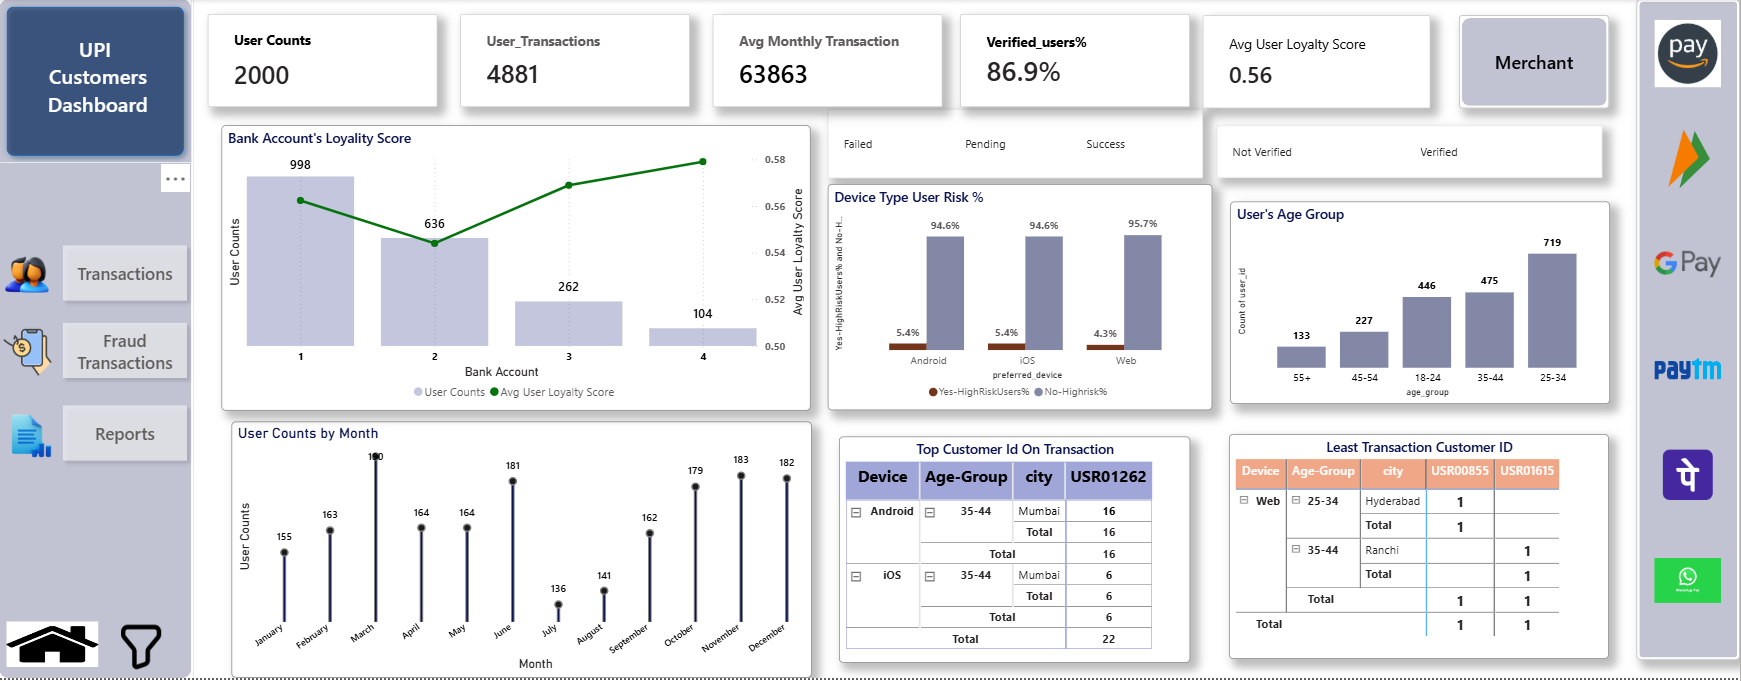

Layout of this report page (visuals, bound fields, positions):
{"tool":"powerbi","page":{"name":"Customer","canvas":[2050,800],"ordinal":2},"visuals":[{"type":"group","id":"g1","title":"Group 11","box":[0,0,230,800],"z":0},{"type":"shape","box":[0,0,226.7,193.5],"z":0,"group":"g2"},{"type":"shape","box":[0,0,226.7,799.8],"z":0,"group":"g1"},{"type":"shape","box":[1927.8,0,121.9,778.4],"z":0,"group":"g3"},{"type":"cardVisual","fields":{"Data":["fraud_labels.Merch_Transactions"]},"box":[543.8,16.8,270,109.9],"z":0,"group":"g7"},{"type":"actionButton","box":[66,280.8,164.1,82.9],"z":0,"group":"g4"},{"type":"actionButton","box":[66,372.1,164.1,82.9],"z":0,"group":"g5"},{"type":"actionButton","box":[66,470.2,164.1,82.9],"z":0,"group":"g6"},{"type":"group","id":"g2","title":"Group 1","box":[0,0,226.7,193.5],"z":1000,"group":"g1"},{"type":"group","id":"g3","title":"Group 3","box":[1927.8,0,121.9,778.4],"z":1000},{"type":"advancedSlicerVisual","fields":{"Values":["slicer.preferred_ app"]},"box":[1943,1.6,91.4,748.8],"z":1000,"group":"g3"},{"type":"cardVisual","fields":{"Data":["Count(merchants.merchant_id)"]},"box":[245.8,16.8,270,109.9],"z":1000,"group":"g7"},{"type":"textbox","box":[30.5,39,171.2,114.1],"z":1000,"group":"g2"},{"type":"image","box":[1.7,294.3,64.3,59.2],"z":1000,"group":"g4"},{"type":"image","box":[1.7,385.6,64.3,59.2],"z":1000,"group":"g5"},{"type":"image","box":[1.7,483.7,64.3,59.2],"z":1000,"group":"g6"},{"type":"cardVisual","fields":{"Data":["fraud_labels.Registered_merch%"]},"box":[1132.2,16.8,270,109.9],"z":2000,"group":"g7"},{"type":"advancedSlicerVisual","fields":{"Values":["transactions.status"]},"box":[976.1,129.2,441.3,81.5],"z":2000},{"type":"group","id":"g4","title":"Group 10","box":[1.7,280.8,228.3,82.9],"z":2000,"group":"g1"},{"type":"cardVisual","fields":{"Data":["Sum(merchants.avg_daily_transactions)"]},"box":[839.9,16.8,270,109.9],"z":3000,"group":"g7"},{"type":"advancedSlicerVisual","fields":{"Values":["users.kyc_status"]},"box":[1434.2,149.1,454.4,61.5],"z":3000},{"type":"group","id":"g5","title":"Group 10","box":[1.7,372.1,228.3,82.9],"z":3000,"group":"g1"},{"type":"cardVisual","fields":{"Data":["Avg(merchants.rating)"]},"box":[1417.2,18.7,268.2,109.9],"z":4000,"group":"g7"},{"type":"group","id":"g6","title":"Group 10","box":[1.7,470.2,228.3,82.9],"z":4000,"group":"g1"},{"type":"shape","box":[1718.9,18.7,176.9,109.9],"z":5000,"group":"g7"},{"type":"group","id":"g7","title":"Group 4","box":[245.8,16.8,1650,111.7],"z":10000},{"type":"donutChart","fields":{"Category":["merchants.merchant_size"],"Y":["Count(merchants.merchant_id)"]},"box":[1348,242,306,242],"z":11000},{"type":"lineChart","fields":{"Category":["users.signup_month.Variation.Date Hierarchy.Month"],"Y":["Count(merchants.merchant_id)"]},"box":[245.5,513.7,780.2,269.9],"z":12000},{"type":"clusteredColumnChart","title":"Merchant Status On City Tyre","fields":{"Category":["merchants.city_tier"],"Y":["fraud_labels.Registered_Merch","fraud_labels.Not-Registered_Merch"]},"box":[854,238,470,246],"z":13000},{"type":"clusteredColumnChart","title":"Avg Transacton on Merchant Category","fields":{"Category":["merchants.merchant_category"],"Y":["Sum(merchants.avg_daily_transactions)"]},"box":[246.5,153.1,594.4,330],"z":14000},{"type":"pivotTable","title":"Cities on High Rating","fields":{"Rows":["merchants.city"],"Values":["Avg(merchants.rating)"],"Columns":["merchants.city_tier"]},"box":[1697.8,248.5,218.7,534.8],"z":15000},{"type":"tableEx","title":"Top Merchant Name","fields":{"Values":["merchants.merchant_name","merchants.merchant_category","merchants.merchant_size","merchants.city","merchants.city_tier","Sum(merchants.avg_daily_transactions)","Avg(merchants.rating)"]},"box":[1049.7,515.4,636.5,268.4],"z":16000},{"type":"image","box":[113.7,732.2,108.2,63.8],"z":19000},{"type":"image","box":[8.7,733.1,108,54],"z":20000}]}

Visuals, with their boxes on the page's 2050x800 design canvas (x1, y1, x2, y2). These are canvas units, not pixel positions in the 1741x681 screenshot, which may show the page scaled, cropped or inside an application window:
"Group 11" group: (0, 0, 230, 800)
shape: (0, 0, 227, 194)
shape: (0, 0, 227, 800)
shape: (1928, 0, 2050, 778)
cardVisual - fraud_labels.Merch_Transactions: (544, 17, 814, 127)
actionButton: (66, 281, 230, 364)
actionButton: (66, 372, 230, 455)
actionButton: (66, 470, 230, 553)
"Group 1" group: (0, 0, 227, 194)
"Group 3" group: (1928, 0, 2050, 778)
advancedSlicerVisual - slicer.preferred_ app: (1943, 2, 2034, 750)
cardVisual - Count(merchants.merchant_id): (246, 17, 516, 127)
textbox: (30, 39, 202, 153)
image: (2, 294, 66, 354)
image: (2, 386, 66, 445)
image: (2, 484, 66, 543)
cardVisual - fraud_labels.Registered_merch%: (1132, 17, 1402, 127)
advancedSlicerVisual - transactions.status: (976, 129, 1417, 211)
"Group 10" group: (2, 281, 230, 364)
cardVisual - Sum(merchants.avg_daily_transactions): (840, 17, 1110, 127)
advancedSlicerVisual - users.kyc_status: (1434, 149, 1889, 211)
"Group 10" group: (2, 372, 230, 455)
cardVisual - Avg(merchants.rating): (1417, 19, 1685, 129)
"Group 10" group: (2, 470, 230, 553)
shape: (1719, 19, 1896, 129)
"Group 4" group: (246, 17, 1896, 128)
donutChart - merchants.merchant_size x Count(merchants.merchant_id): (1348, 242, 1654, 484)
lineChart - users.signup_month.Variation.Date Hierarchy.Month x Count(merchants.merchant_id): (246, 514, 1026, 784)
"Merchant Status On City Tyre" clusteredColumnChart: (854, 238, 1324, 484)
"Avg Transacton on Merchant Category" clusteredColumnChart: (246, 153, 841, 483)
"Cities on High Rating" pivotTable: (1698, 248, 1916, 783)
"Top Merchant Name" tableEx: (1050, 515, 1686, 784)
image: (114, 732, 222, 796)
image: (9, 733, 117, 787)
